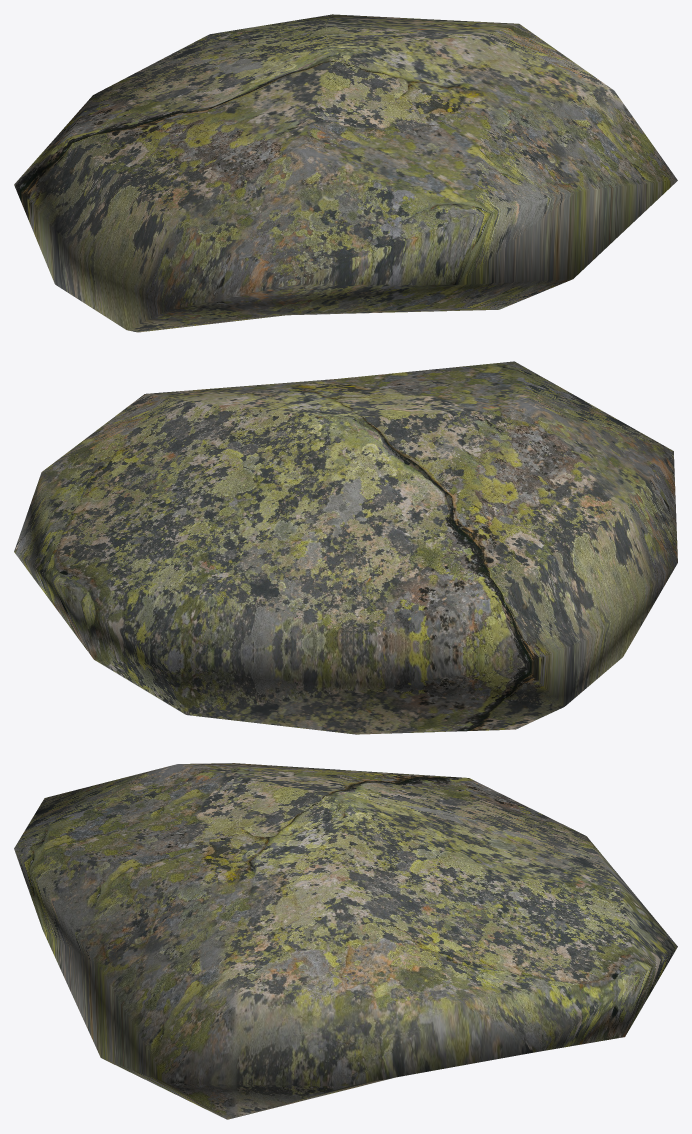
File: boulder_d_lod2.gltf
3 views of the same model, one above another, from view 1: azimuth 30°, elevation 25°; view 2: azimuth 150°, elevation 25°; view 3: azimuth 270°, elevation 25° (orthographic). The views are drawn at different scales.
Parts seen in each view (by area): view 1: boulder_d_LOD2; view 2: boulder_d_LOD2; view 3: boulder_d_LOD2.
Part boxes in pixels (box(x1,y1,x2,y2)): boulder_d_LOD2: box(14, 14, 677, 332); boulder_d_LOD2: box(14, 361, 677, 734); boulder_d_LOD2: box(14, 763, 677, 1119).
Bounding box in the file's own units: 1.79 × 0.8244 × 1.78.
1 material, 1 textured.
